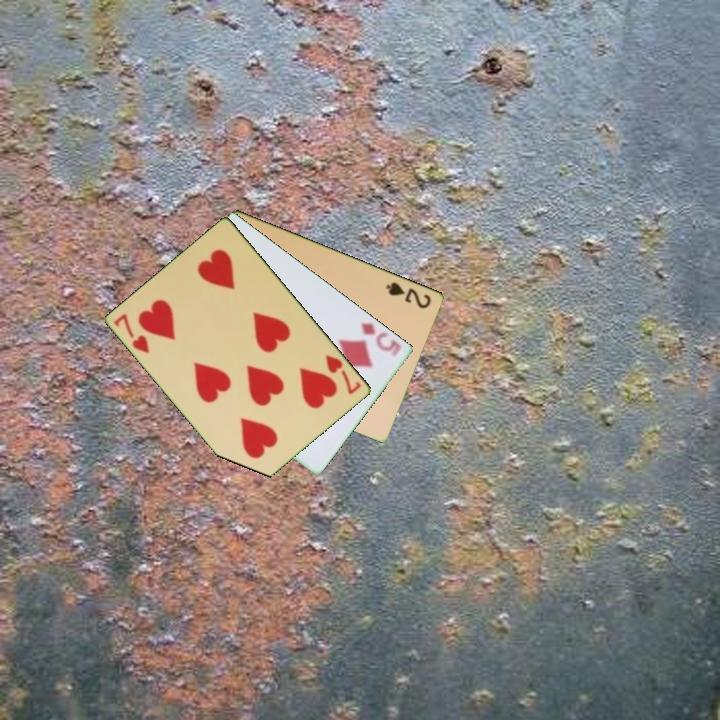2s: (383, 278, 434, 311)
5d: (357, 319, 405, 359)
7h: (110, 310, 153, 357), (322, 351, 365, 397)
